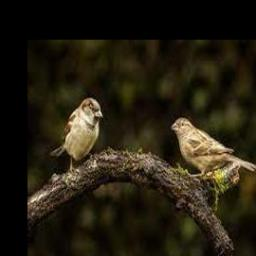Sparrow: (172, 115, 256, 176), (50, 97, 103, 173)
